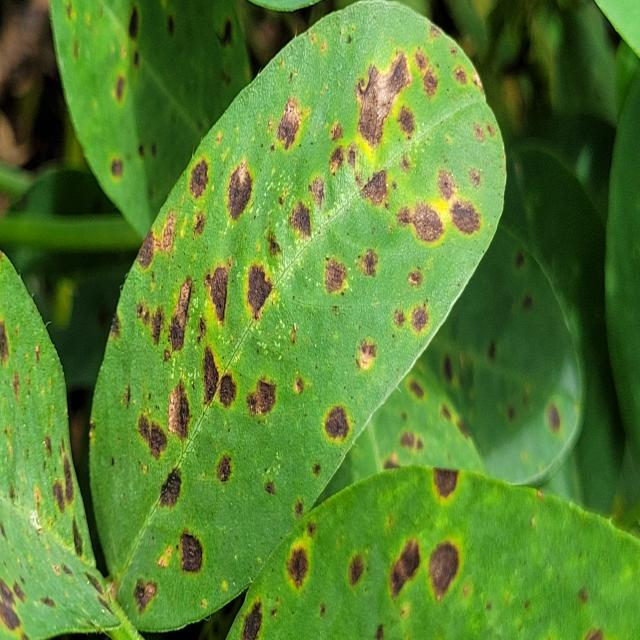Ground nut_tikka leaf spot: (91, 2, 508, 628)
